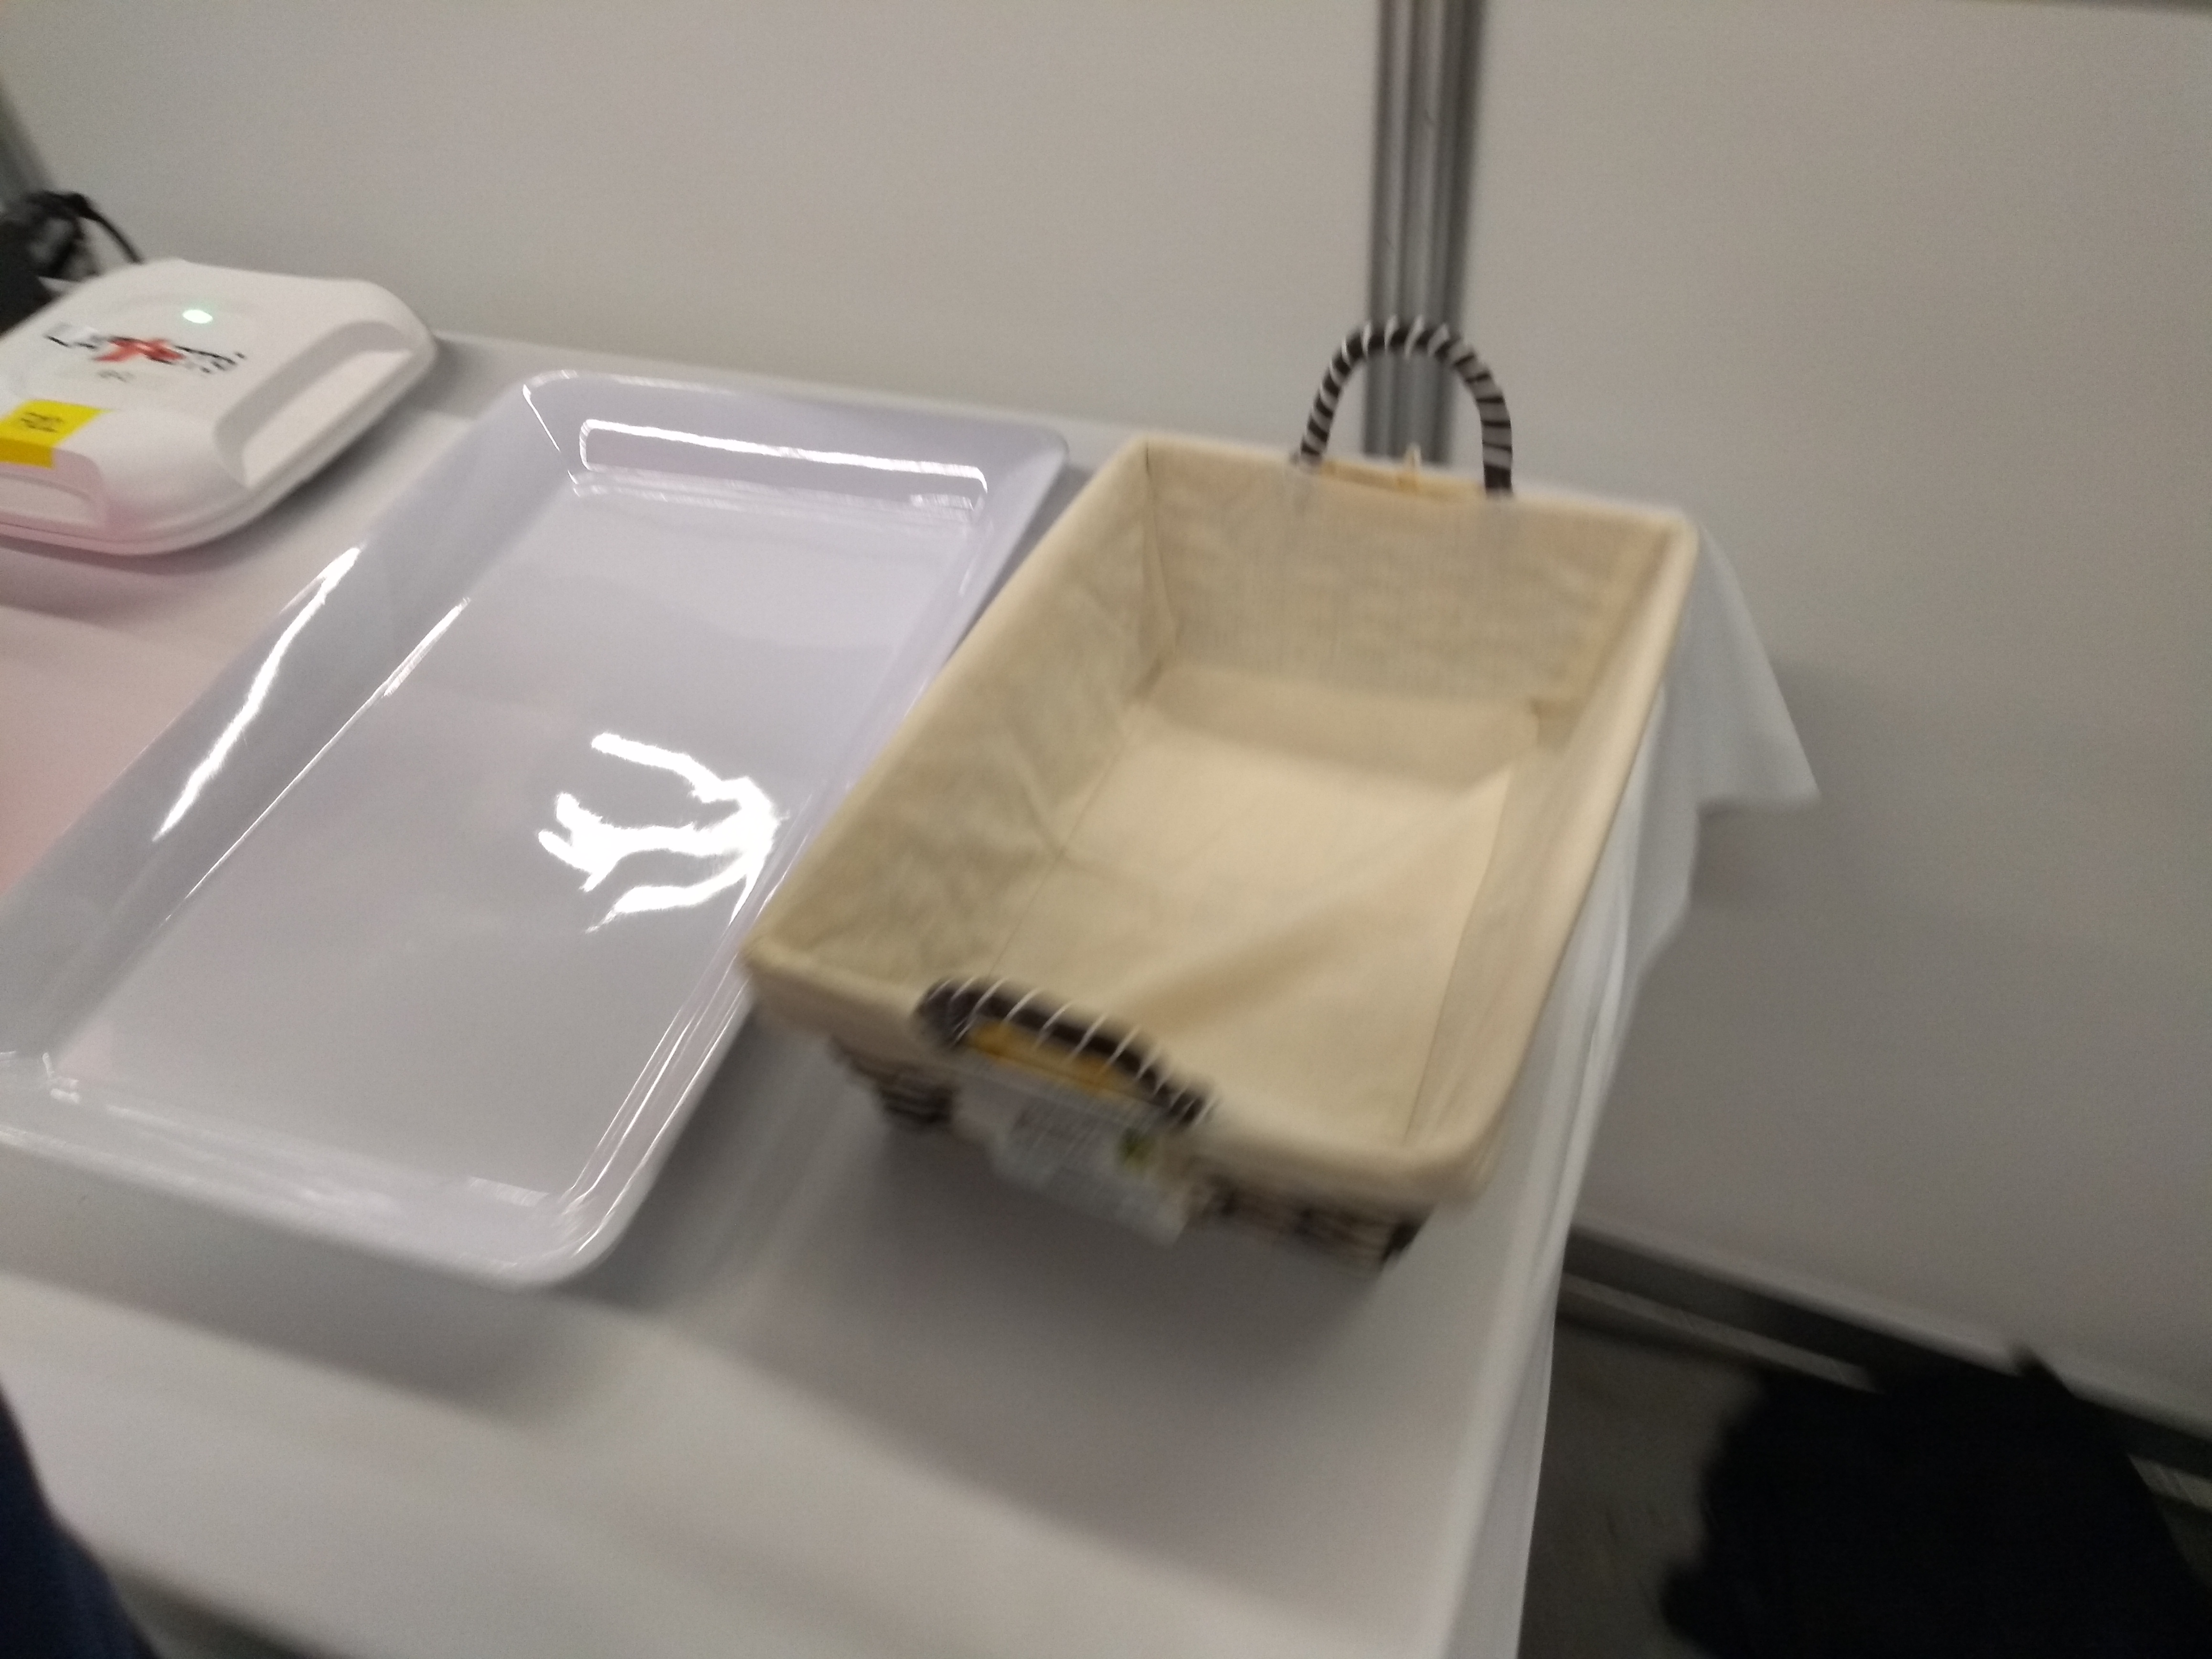basket: (726, 308, 1709, 1295)
tray: (0, 350, 1076, 1309)
